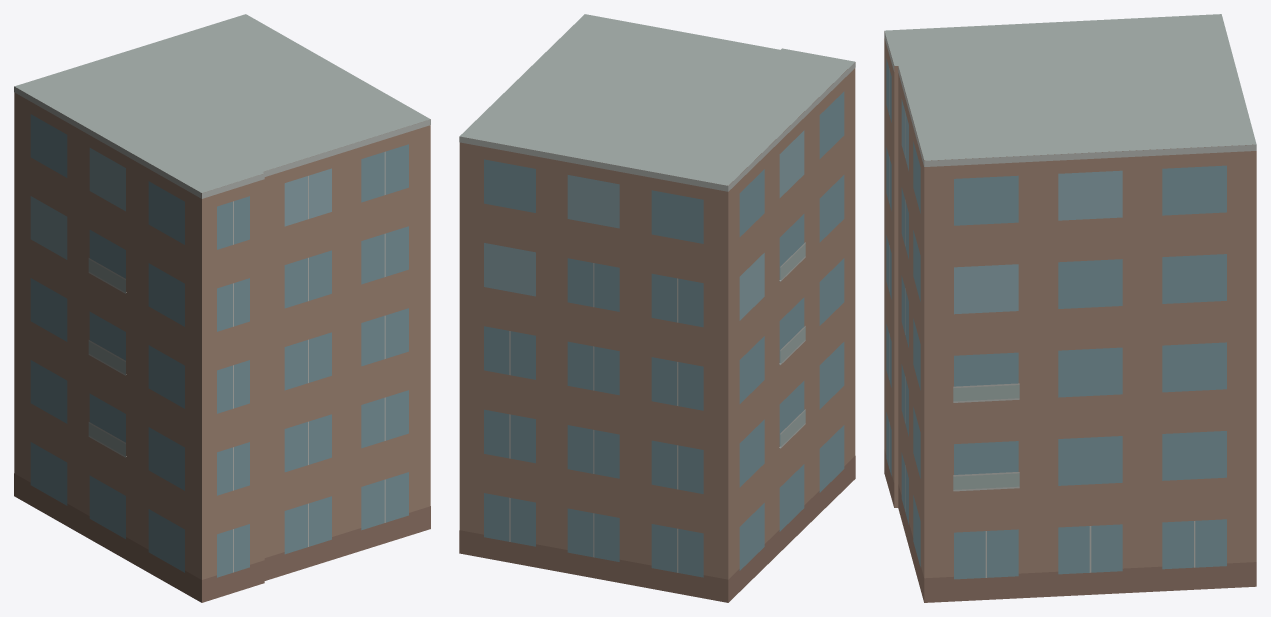
File: survey-upis-32654465.glb
3 views of the same model, side by side, from view 1: azimuth 30°, elevation 25°; view 2: azimuth 150°, elevation 25°; view 3: azimuth 270°, elevation 25° (orthographic). The views are drawn at different scales.
Parts seen in each view (by area): view 1: survey-upis-32654465.tmp; view 2: survey-upis-32654465.tmp; view 3: survey-upis-32654465.tmp.
Boxes of the visible parts, box(x1,y1,x2,y2) form: survey-upis-32654465.tmp: box(14, 14, 430, 602); survey-upis-32654465.tmp: box(459, 14, 855, 602); survey-upis-32654465.tmp: box(884, 14, 1256, 602).
Size of the model in its own units: 12.15 by 17.05 by 13.03.
